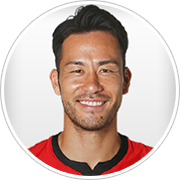face: (44, 50, 133, 122)
